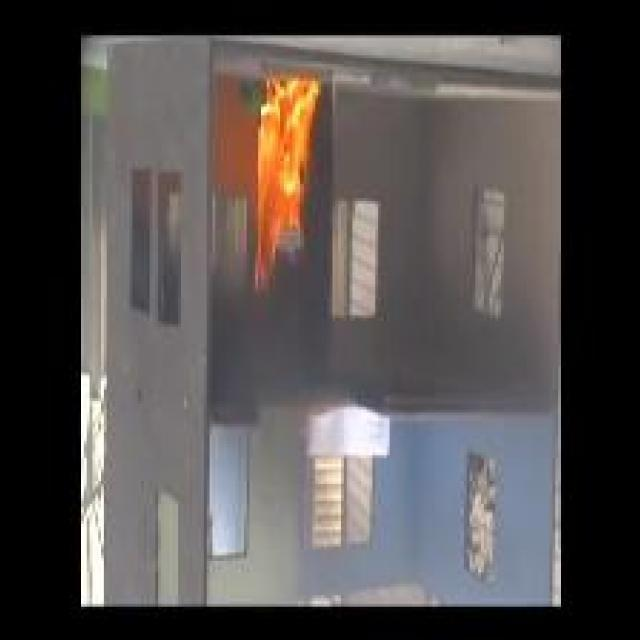Fire: (254, 75, 317, 292)
